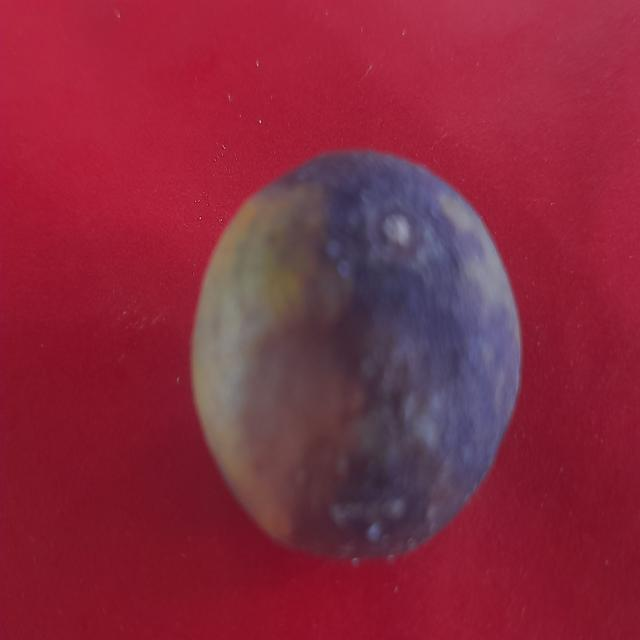black spot: (214, 168, 503, 546)
